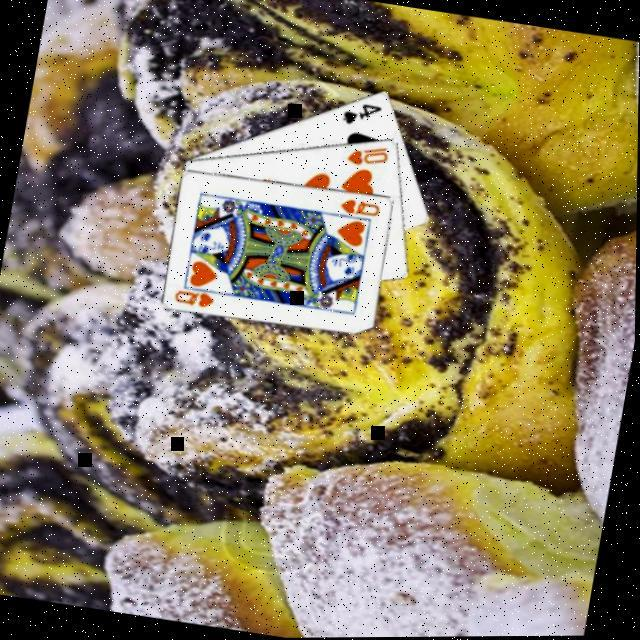10H: (340, 141, 390, 174)
4S: (336, 98, 384, 134)
QH: (170, 282, 222, 314), (334, 196, 383, 223)
